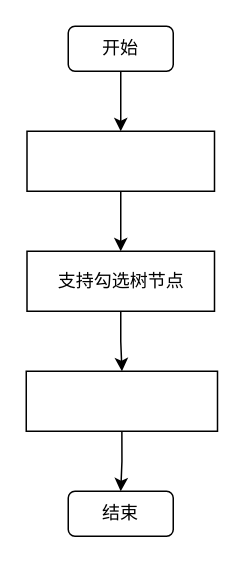
Some shapes in this 245 by 563 pixel diagram are drawn without their labels. Each missing label, with the centre of its shape:
"展示角色树数据" goes at point (120, 160).
"返回节点信息" goes at point (121, 400).
